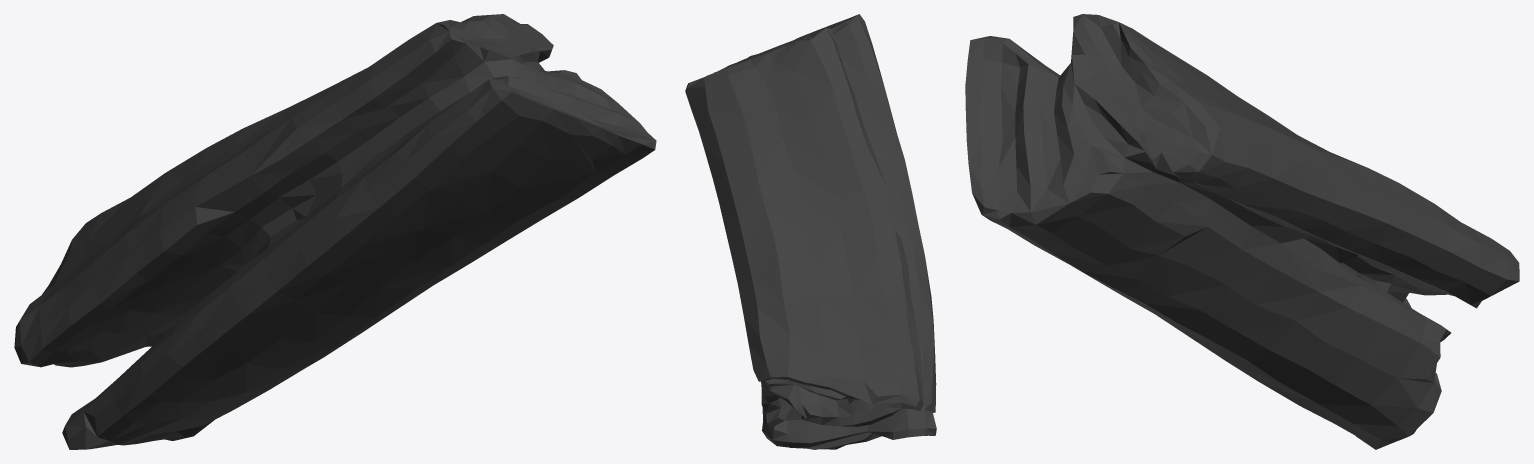
The model's file is Lower_M3.glb.
3 renders of one model, left to right at view 1: azimuth 30°, elevation 25°; view 2: azimuth 150°, elevation 25°; view 3: azimuth 270°, elevation 25°, orthographic. The views are drawn at different scales.
Parts seen in each view (by area): view 1: Lower_M3; view 2: Lower_M3; view 3: Lower_M3.
Part boxes in pixels (x1,y1,x2,y2): Lower_M3: [14, 14, 656, 449]; Lower_M3: [685, 14, 936, 449]; Lower_M3: [965, 14, 1519, 449].
Size of the model in its own units: 0.6282 by 0.6323 by 0.6569.
1 material, 1 textured.
